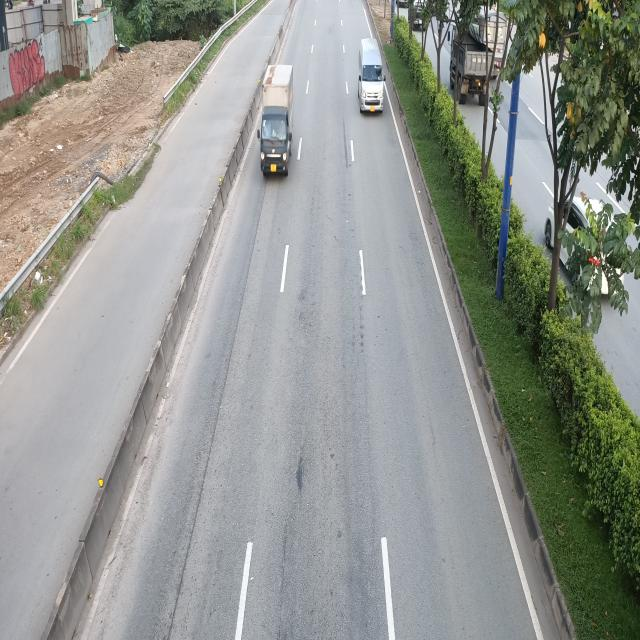truck: (258, 67, 296, 179)
van: (357, 39, 384, 114)
